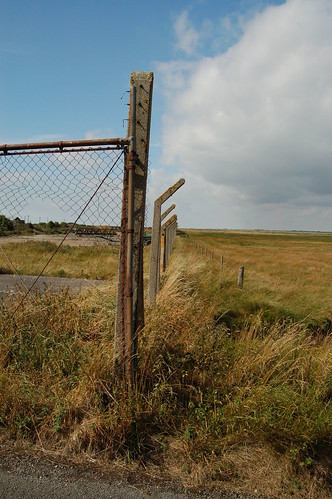grass: (168, 222, 332, 485), (1, 297, 177, 458)
sky: (1, 1, 332, 221)
